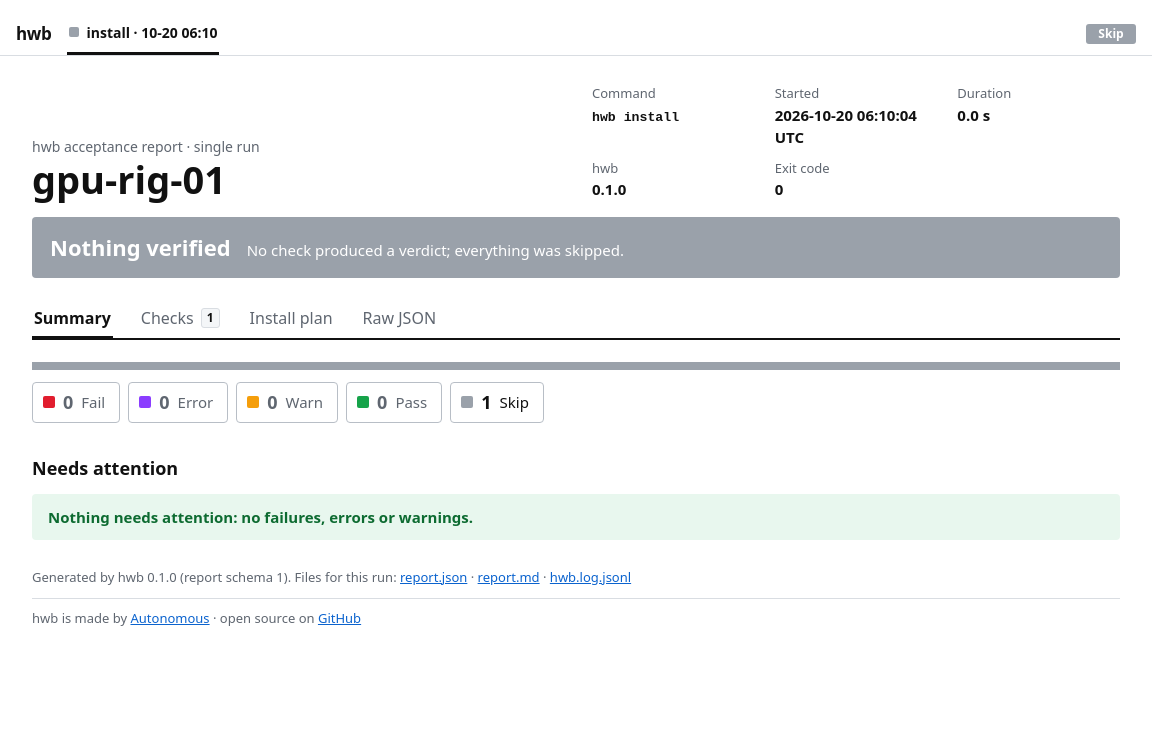
Test case: single run › renders the install plan as copyable commands
The image size is (1152, 732).
Click the tab "Install plan" at (291, 322), box [248,306,335,340]
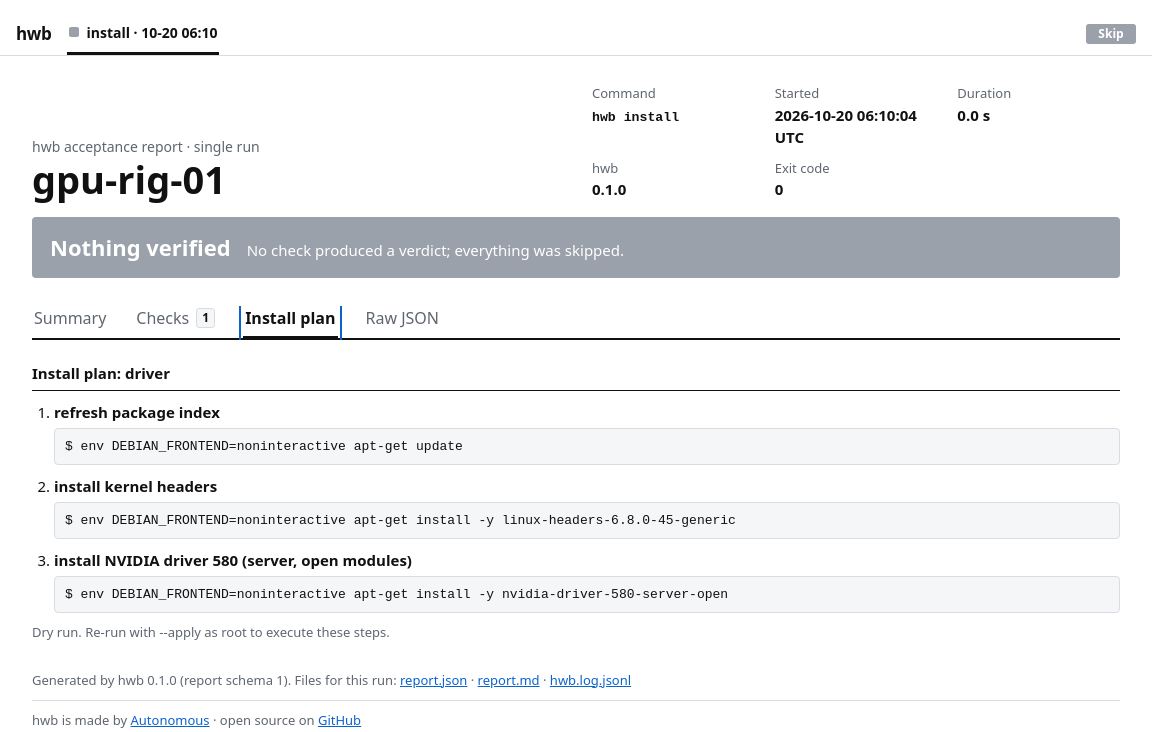
Check: the heading "Install plan: driver" is shown, box [32,362,1120,391]
Check: the text "nvidia-driver-580-server-open" is shown, box [81,586,728,602]
Check: the text "Dry run. Re-run with --apply as root to execute these steps." is shown, box [32,623,390,641]
